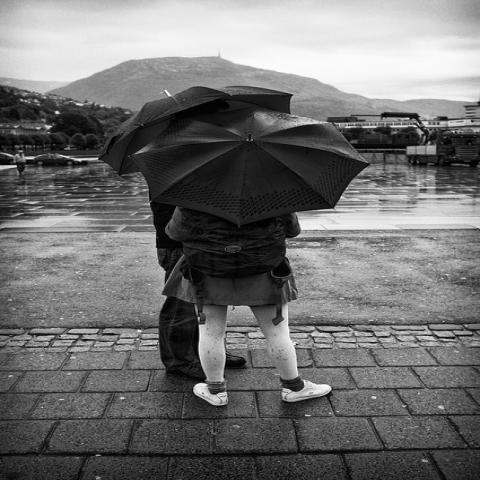car: (32, 154, 82, 166)
